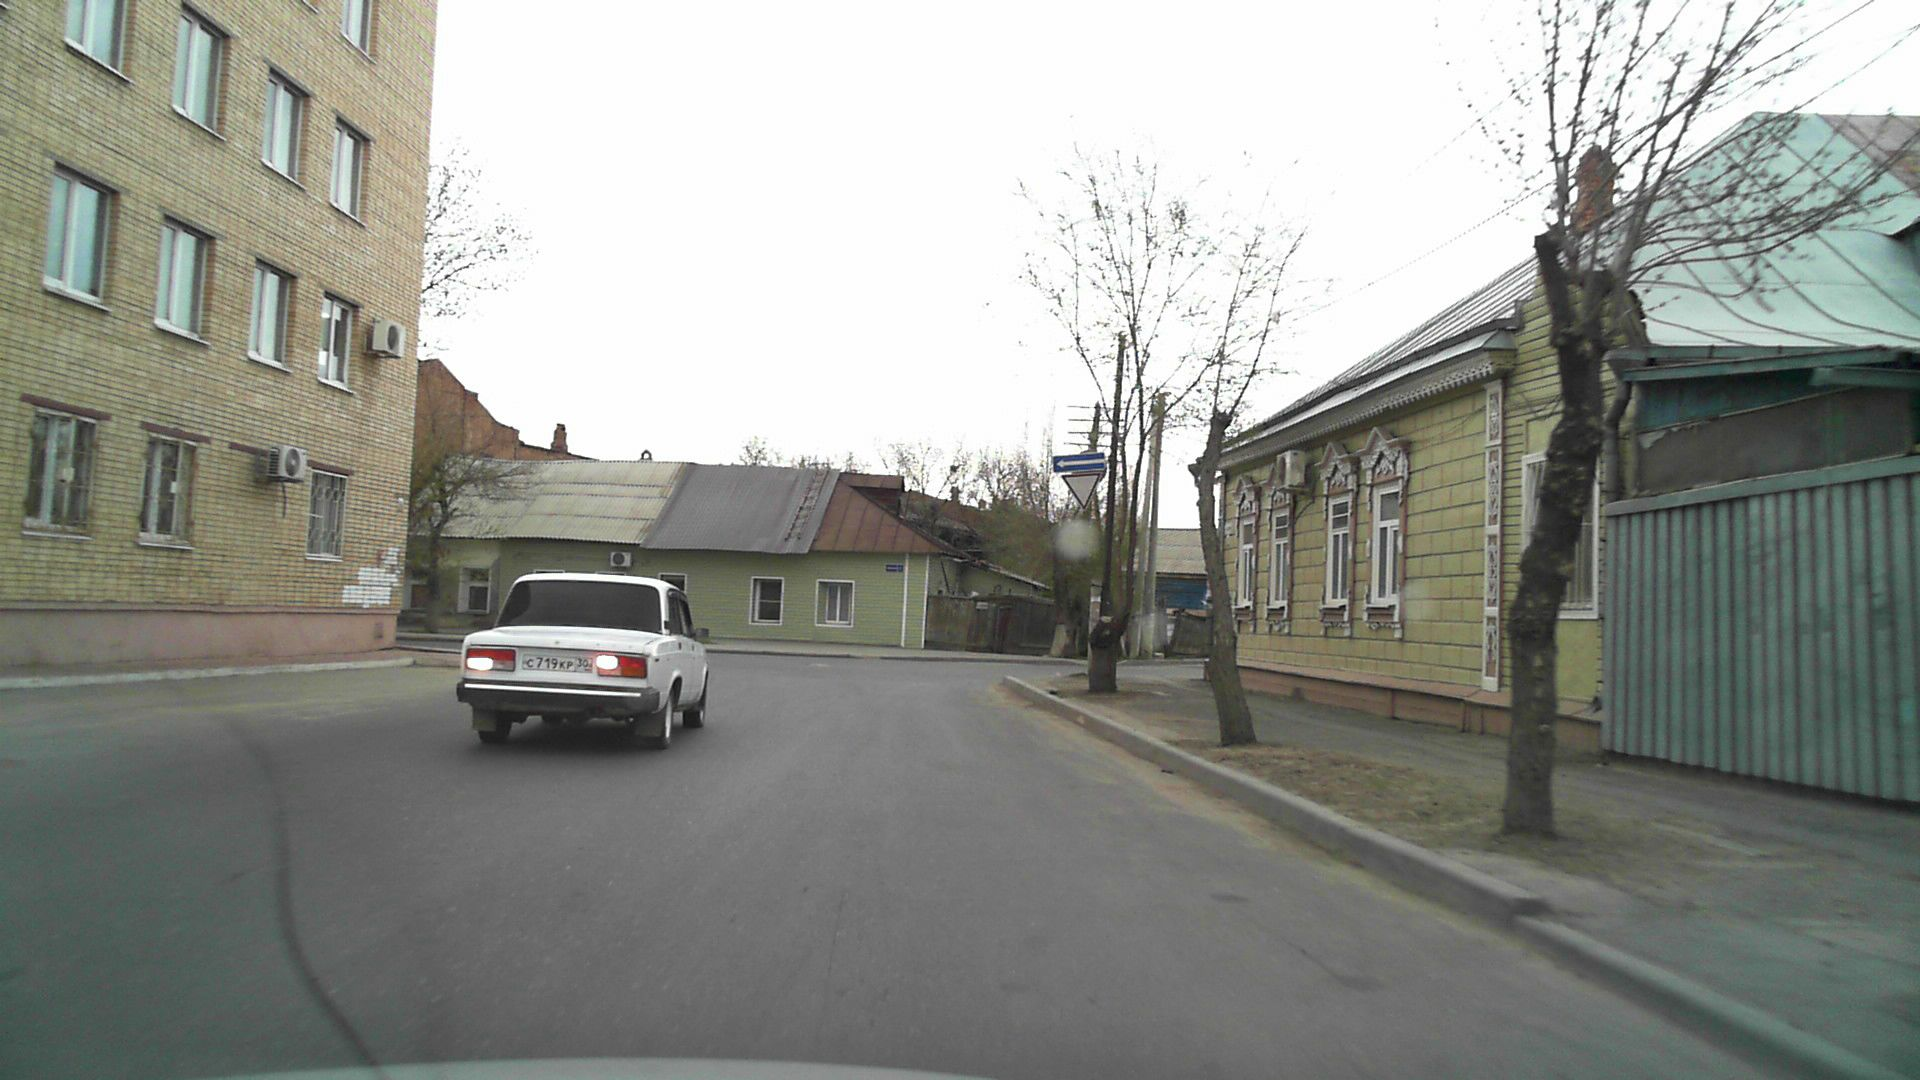One-Way Traffic: (1054, 454, 1105, 472)
